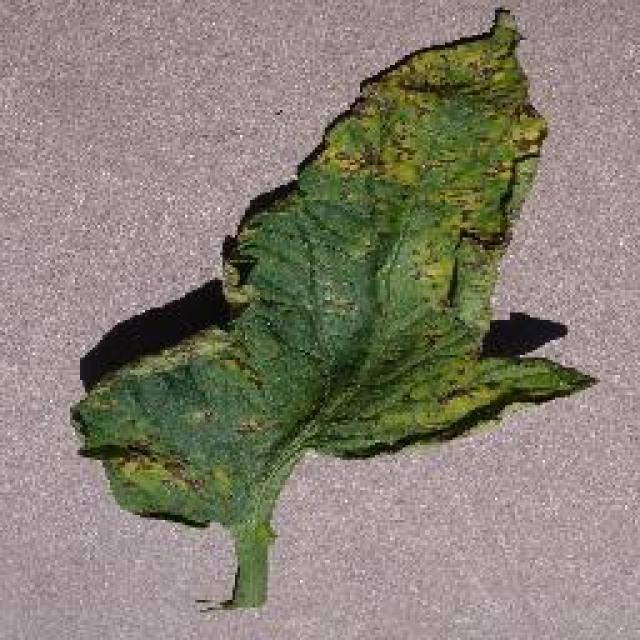Tomato target spot leaf: (73, 9, 595, 529)
